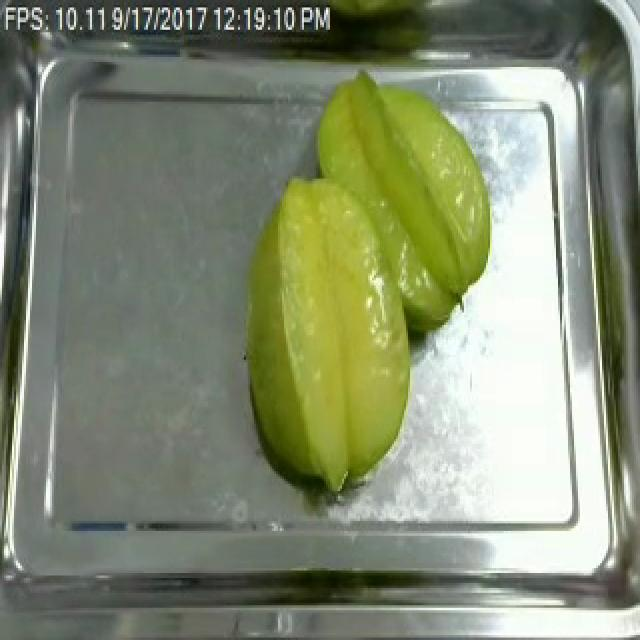fruit: (230, 164, 428, 506), (266, 70, 500, 342)
